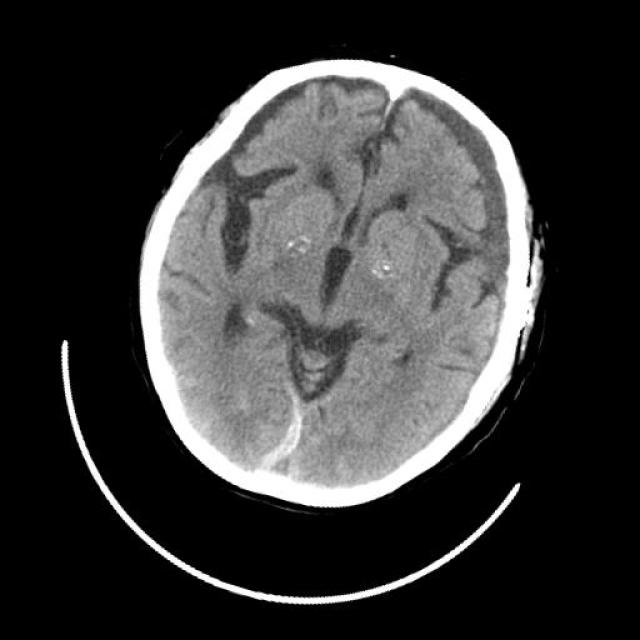Subdural: (216, 370, 340, 510)
